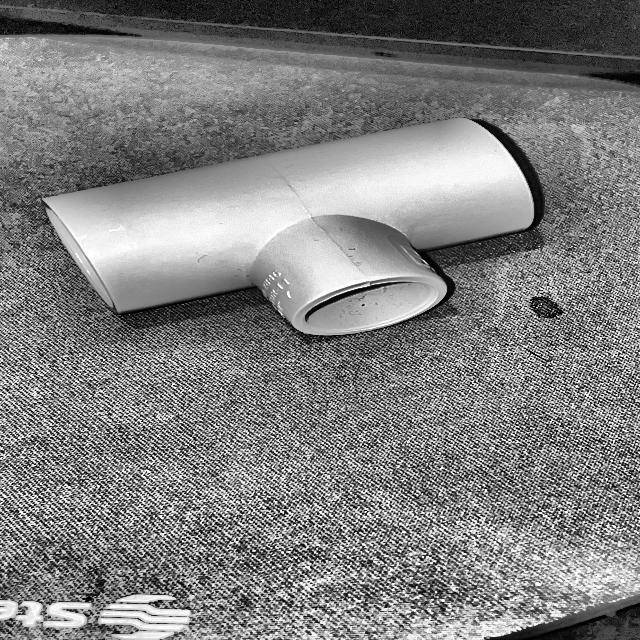EQUALTEE: (43, 118, 544, 335)
